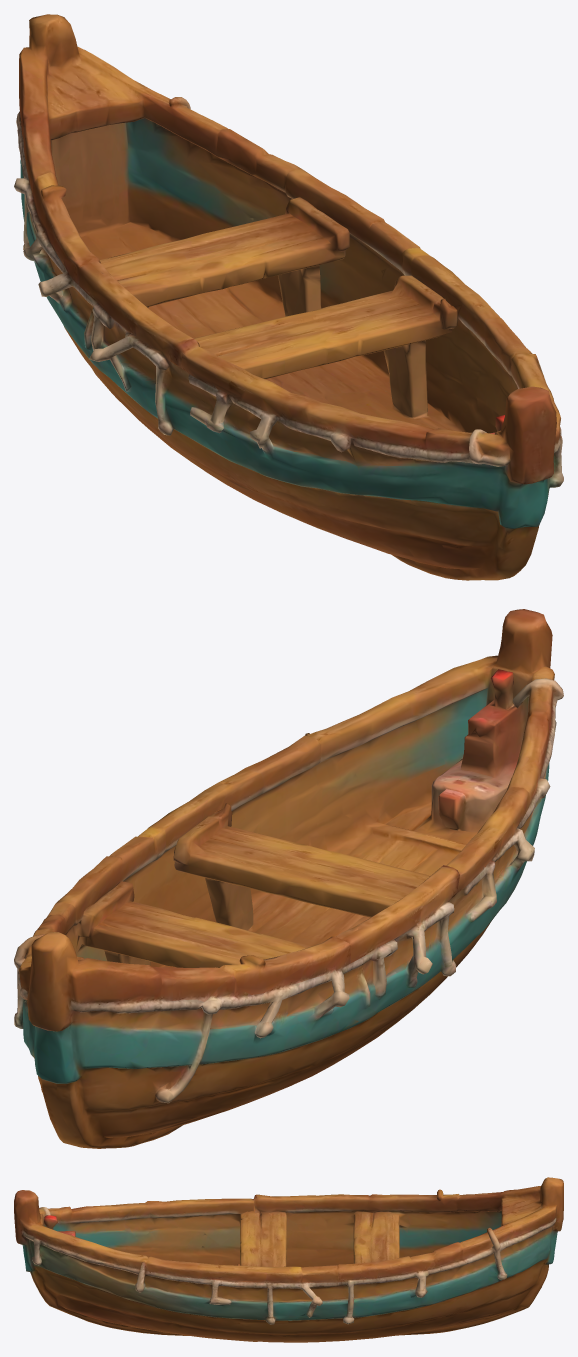
Rendered from canoe.glb.
3 renders of one model, top to bottom at view 1: azimuth 30°, elevation 25°; view 2: azimuth 150°, elevation 25°; view 3: azimuth 270°, elevation 25°, orthographic. The views are drawn at different scales.
Parts seen in each view (by area): view 1: tripo_node_ba42b147-edbd-41bc-81a7-25969407b1bc; view 2: tripo_node_ba42b147-edbd-41bc-81a7-25969407b1bc; view 3: tripo_node_ba42b147-edbd-41bc-81a7-25969407b1bc.
Boxes of the visible parts, box(x1,y1,x2,y2) form: tripo_node_ba42b147-edbd-41bc-81a7-25969407b1bc: box(14, 14, 563, 580); tripo_node_ba42b147-edbd-41bc-81a7-25969407b1bc: box(14, 609, 563, 1148); tripo_node_ba42b147-edbd-41bc-81a7-25969407b1bc: box(14, 1177, 563, 1342).
Bounding box in the file's own units: 0.3914 × 0.3164 × 1.
Materials: 1 (1 with a texture image).
